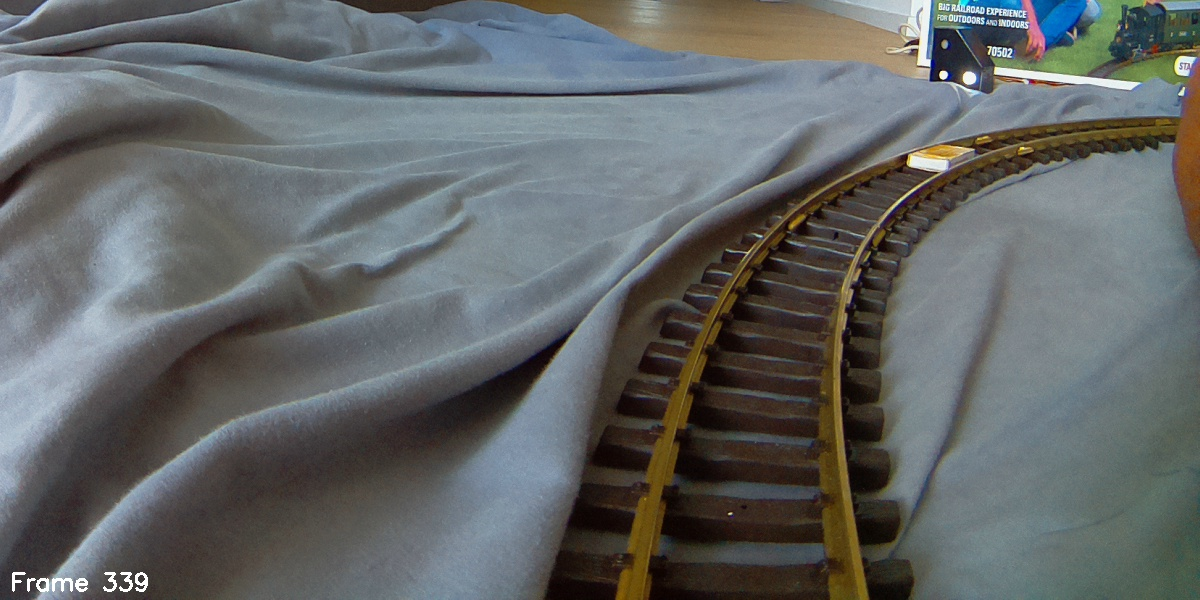Halt: (932, 26, 994, 91)
